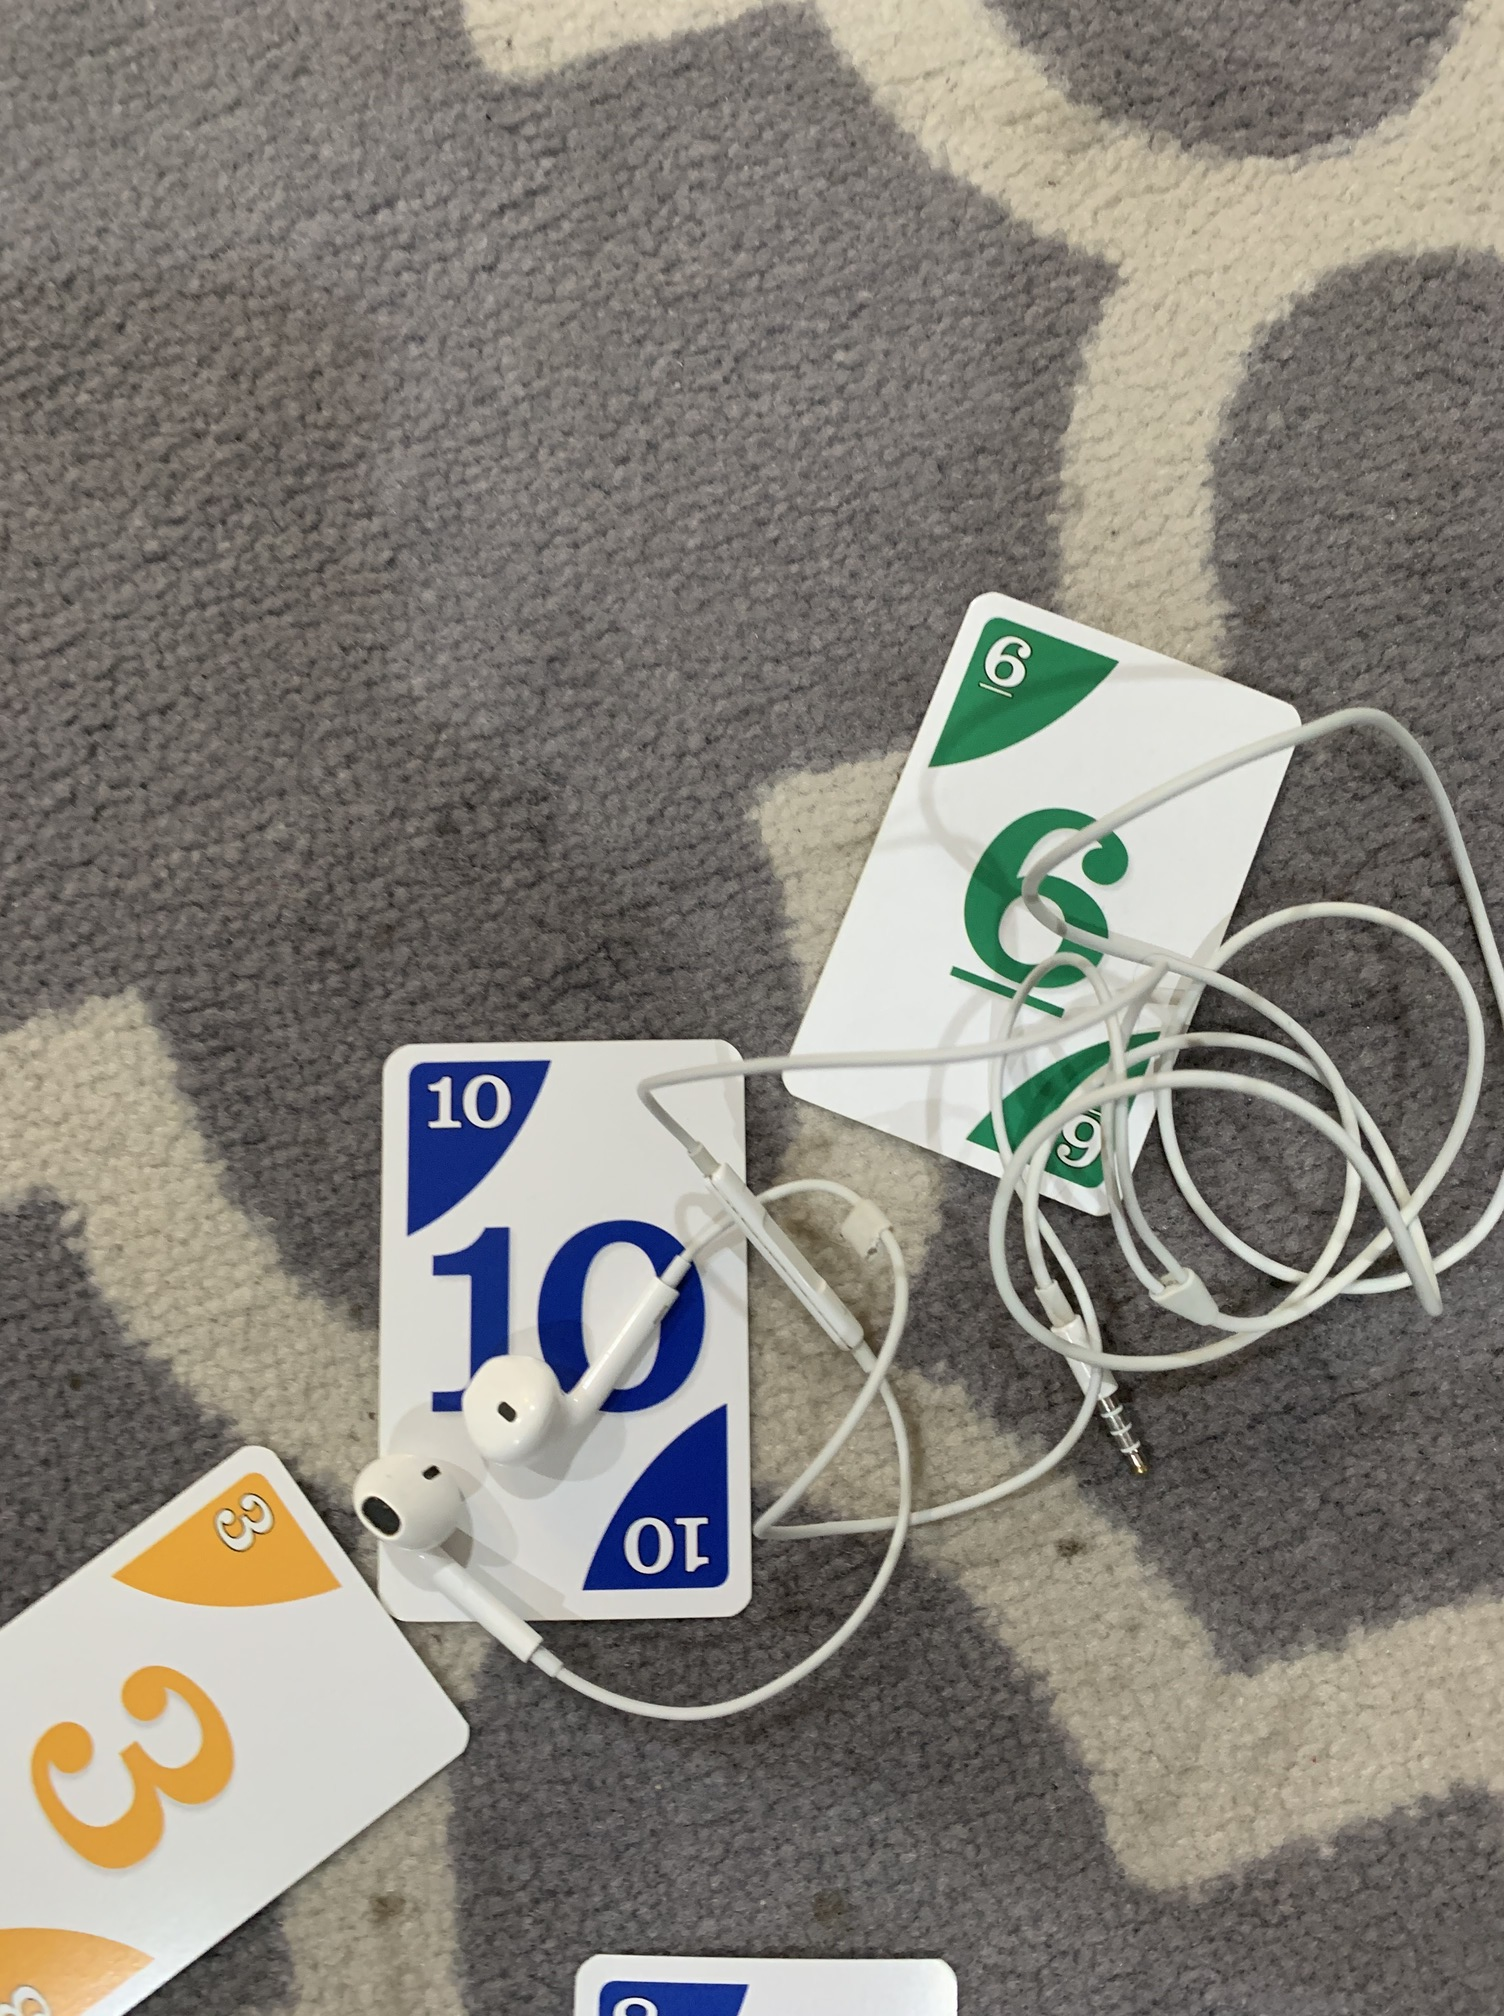six: (769, 580, 1319, 1242)
ten: (348, 1032, 776, 1646)
three: (2, 1438, 499, 2011)
